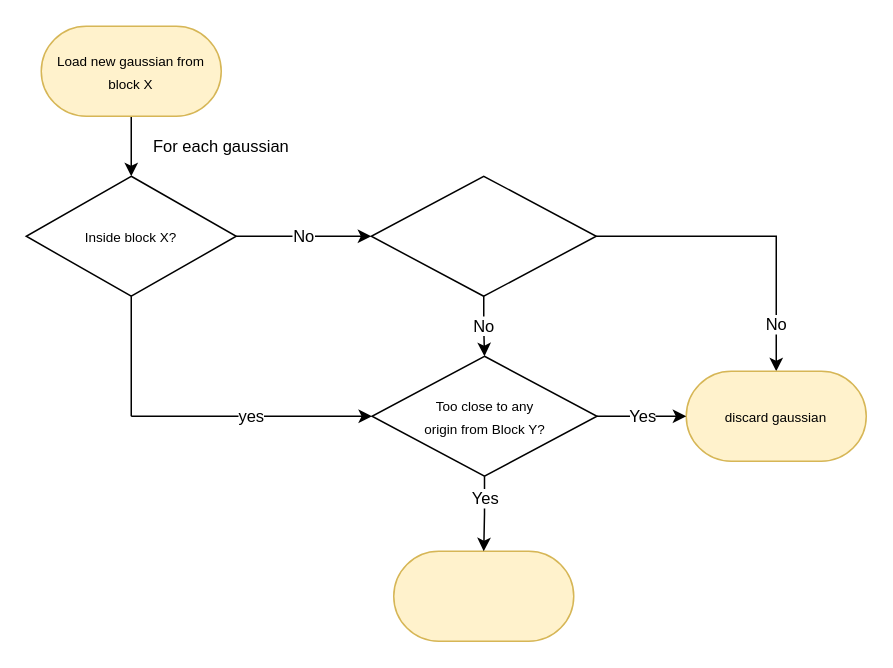
Image size: 893x668. Some labels were removed from this diagram. Each missing label, with the centre of its shape:
"Commit gaussian to global set" belongs at point (483, 595).
"Within minimum range from an origin from block x?" belongs at point (483, 235).
